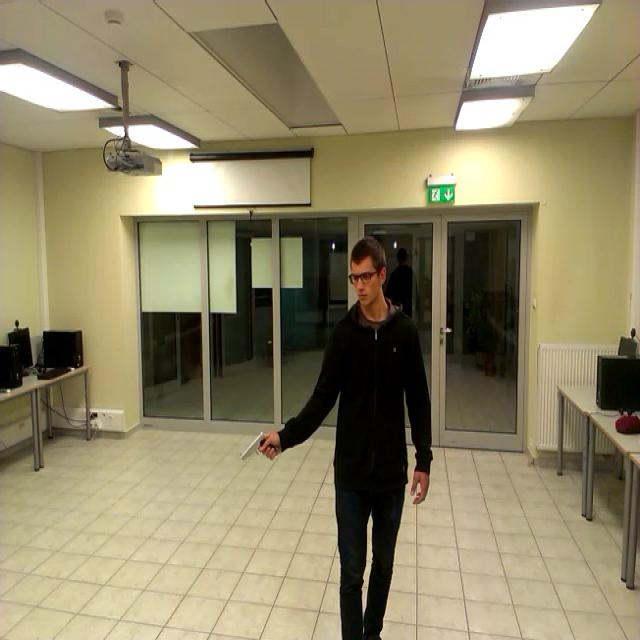handgun: (238, 426, 286, 482)
